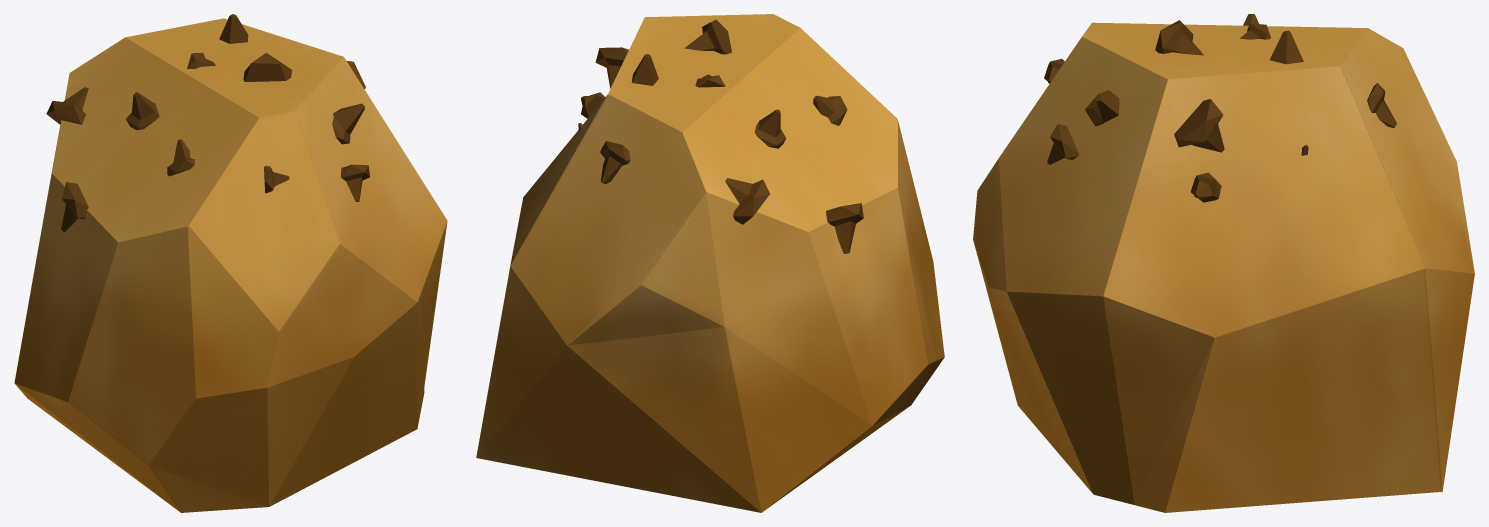
The model's file is smallcookierock.fbx.
3 renders of one model, left to right at view 1: azimuth 30°, elevation 25°; view 2: azimuth 150°, elevation 25°; view 3: azimuth 270°, elevation 25°, orthographic. The views are drawn at different scales.
Parts seen in each view (by area): view 1: Sphere, Icosphere.006, Icosphere.003, Icosphere.007, Icosphere.010, Icosphere.011, Icosphere.001, Icosphere.002, Icosphere; view 2: Sphere, Icosphere.003, Icosphere.007, Icosphere.006, Icosphere.004, Icosphere.011, Icosphere.005, Icosphere.002, Icosphere; view 3: Sphere, Icosphere.005, Icosphere.006, Icosphere.010, Icosphere.001, Icosphere, Icosphere.009, Icosphere.004.
Part boxes in pixels (x1,y1,x2,y2): Sphere: [14, 18, 447, 512]; Icosphere.006: [243, 52, 292, 81]; Icosphere.003: [46, 87, 88, 124]; Icosphere.007: [61, 182, 88, 231]; Icosphere.010: [332, 103, 364, 144]; Icosphere.011: [126, 92, 159, 130]; Icosphere.001: [341, 164, 369, 201]; Icosphere.002: [167, 139, 195, 176]; Icosphere: [219, 14, 248, 43]; Sphere: [476, 14, 944, 512]; Icosphere.003: [725, 178, 769, 224]; Icosphere.007: [826, 203, 863, 253]; Icosphere.006: [684, 19, 731, 54]; Icosphere.004: [600, 141, 630, 184]; Icosphere.011: [754, 109, 786, 148]; Icosphere.005: [595, 47, 628, 88]; Icosphere.002: [813, 95, 847, 125]; Icosphere: [631, 54, 658, 85]; Sphere: [973, 22, 1474, 512]; Icosphere.005: [1174, 99, 1224, 152]; Icosphere.006: [1155, 20, 1203, 55]; Icosphere.010: [1085, 90, 1119, 126]; Icosphere.001: [1047, 124, 1078, 164]; Icosphere: [1270, 30, 1303, 64]; Icosphere.009: [1190, 172, 1221, 202]; Icosphere.004: [1367, 83, 1396, 127].
Size of the model in its own units: 597 by 583 by 625.
15 materials, 1 textured.
